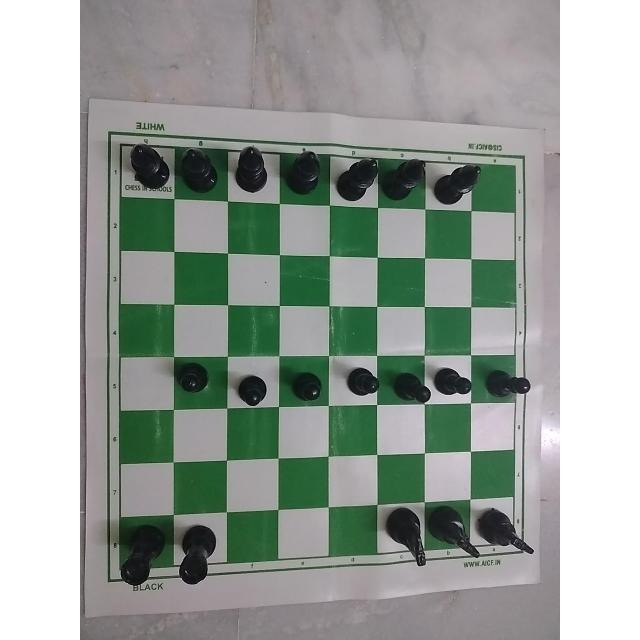black-bishop: (432, 156, 490, 214), (176, 130, 218, 202), (226, 139, 270, 201), (340, 150, 382, 208), (386, 153, 428, 211), (285, 140, 324, 200), (132, 139, 172, 197)
black-knight: (430, 502, 482, 578), (479, 499, 536, 565), (384, 507, 428, 583)
black-pawn: (484, 361, 536, 413), (435, 353, 479, 405), (390, 365, 430, 419), (342, 363, 381, 414), (234, 368, 270, 418), (175, 358, 213, 404), (291, 367, 329, 409)
black-rook: (112, 516, 166, 593), (180, 520, 226, 593)
